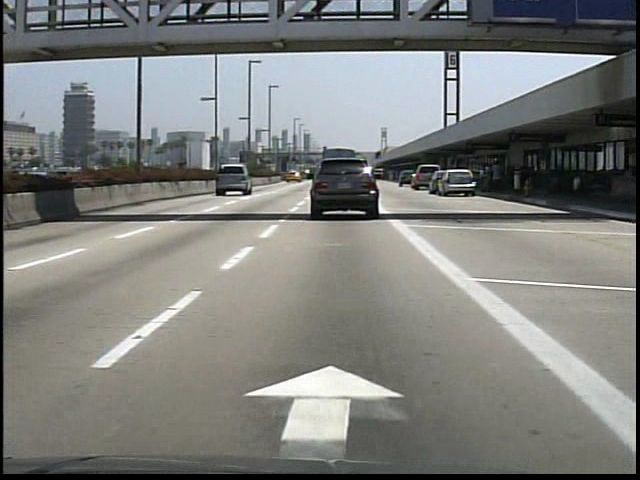person: (488, 156, 507, 195), (477, 162, 492, 195)
